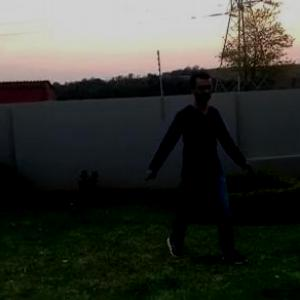land: (134, 69, 255, 270)
